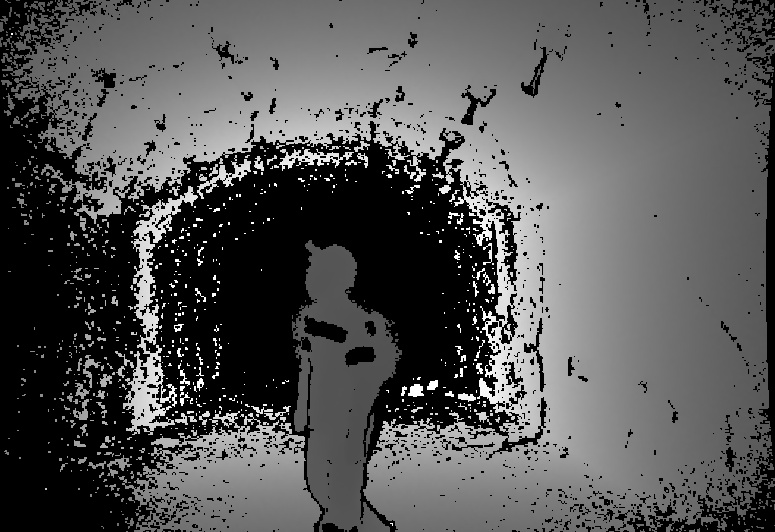person: (293, 239, 401, 532)
